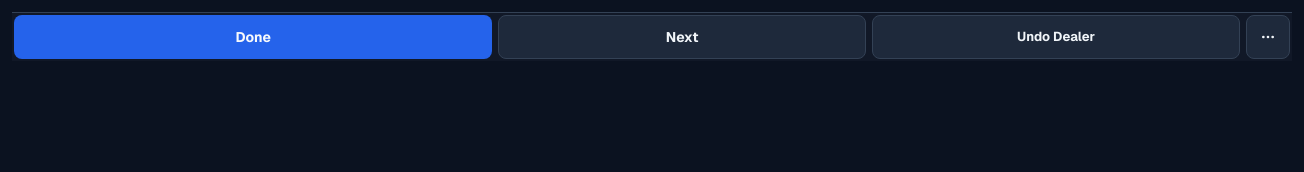
it: RoundControlsRow — Undo spoken feedback (tap path) › floorSpokenCountContent "off" -> undo still reverses the card, but nothing is spoken
Click the button "Undo Dealer".
click(1056, 37)  # box [872,15,1240,59]
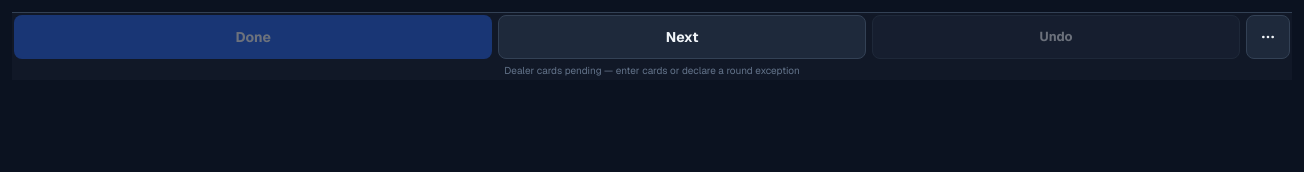
Expected: the button "Undo" is disabled, [872,15,1240,59]
